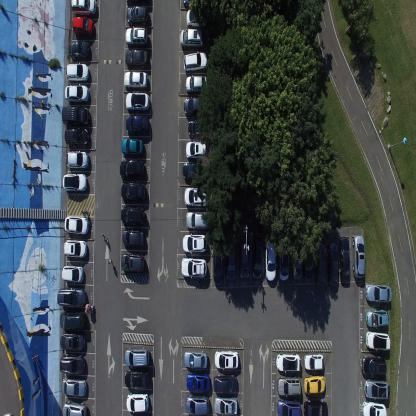car: (61, 105, 90, 126), (181, 256, 208, 278), (57, 288, 86, 308), (179, 26, 203, 50), (120, 157, 145, 180), (183, 185, 209, 207), (277, 233, 289, 280), (353, 233, 365, 280), (338, 236, 350, 282), (120, 204, 145, 226), (366, 283, 392, 304), (181, 232, 208, 252), (326, 241, 338, 285), (121, 252, 145, 274), (125, 113, 149, 135), (124, 48, 148, 70), (365, 378, 390, 399), (362, 355, 387, 376), (125, 91, 150, 112), (184, 96, 209, 117), (123, 69, 148, 90), (64, 83, 89, 104), (62, 172, 88, 192), (275, 352, 301, 372), (124, 346, 150, 366), (59, 354, 85, 374), (59, 311, 86, 330), (265, 234, 276, 280), (183, 50, 206, 72), (125, 25, 148, 47), (366, 330, 390, 351), (121, 182, 145, 203), (251, 236, 263, 278), (277, 375, 301, 396), (185, 394, 209, 415), (185, 209, 210, 229), (214, 350, 239, 370), (183, 349, 208, 369), (124, 369, 150, 388), (61, 377, 87, 396), (59, 332, 85, 351), (70, 0, 97, 18), (315, 242, 326, 286), (126, 4, 148, 26), (68, 40, 91, 61), (66, 61, 89, 82), (303, 375, 326, 396), (182, 160, 206, 180), (71, 17, 95, 37), (213, 374, 237, 394), (186, 372, 210, 392), (302, 238, 313, 281), (291, 236, 302, 278), (122, 228, 144, 249), (121, 137, 143, 158), (126, 391, 148, 412), (64, 238, 87, 258), (64, 128, 89, 146), (213, 242, 223, 287), (64, 216, 89, 234), (185, 9, 211, 26), (215, 396, 238, 415), (185, 75, 208, 94), (61, 264, 84, 283), (65, 150, 89, 168), (304, 398, 328, 416), (277, 398, 301, 416), (226, 238, 236, 281), (239, 236, 249, 278), (186, 140, 208, 159), (366, 308, 389, 326), (187, 118, 210, 136), (362, 400, 387, 416), (304, 352, 324, 371), (62, 401, 86, 415), (182, 0, 205, 9)
